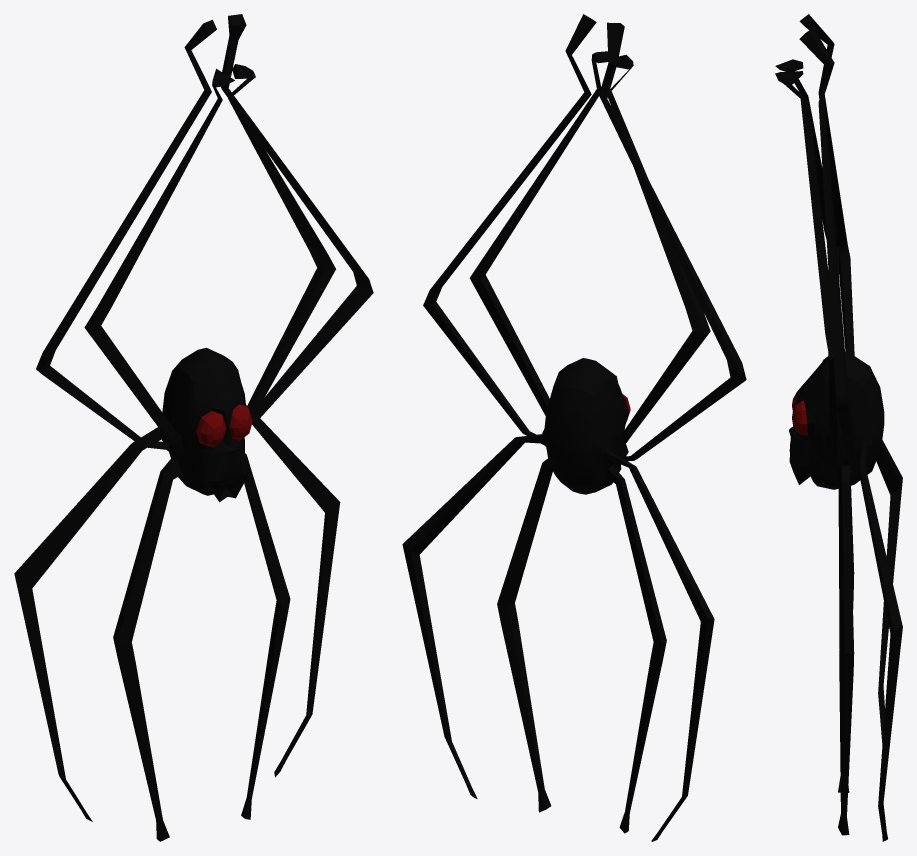
Rendered from Spider_MDL_fbx.fbx.
3 views of the same model, side by side, from view 1: azimuth 30°, elevation 25°; view 2: azimuth 150°, elevation 25°; view 3: azimuth 270°, elevation 25° (orthographic). The views are drawn at different scales.
Visible parts, largest first — view 1: Spider_MDL; view 2: Spider_MDL; view 3: Spider_MDL.
Boxes of the visible parts, bbox=[...] form: Spider_MDL: bbox=[14, 14, 373, 841]; Spider_MDL: bbox=[402, 14, 746, 841]; Spider_MDL: bbox=[775, 14, 902, 841].
Size of the model in its own units: 18.47 by 43.82 by 6.42.
